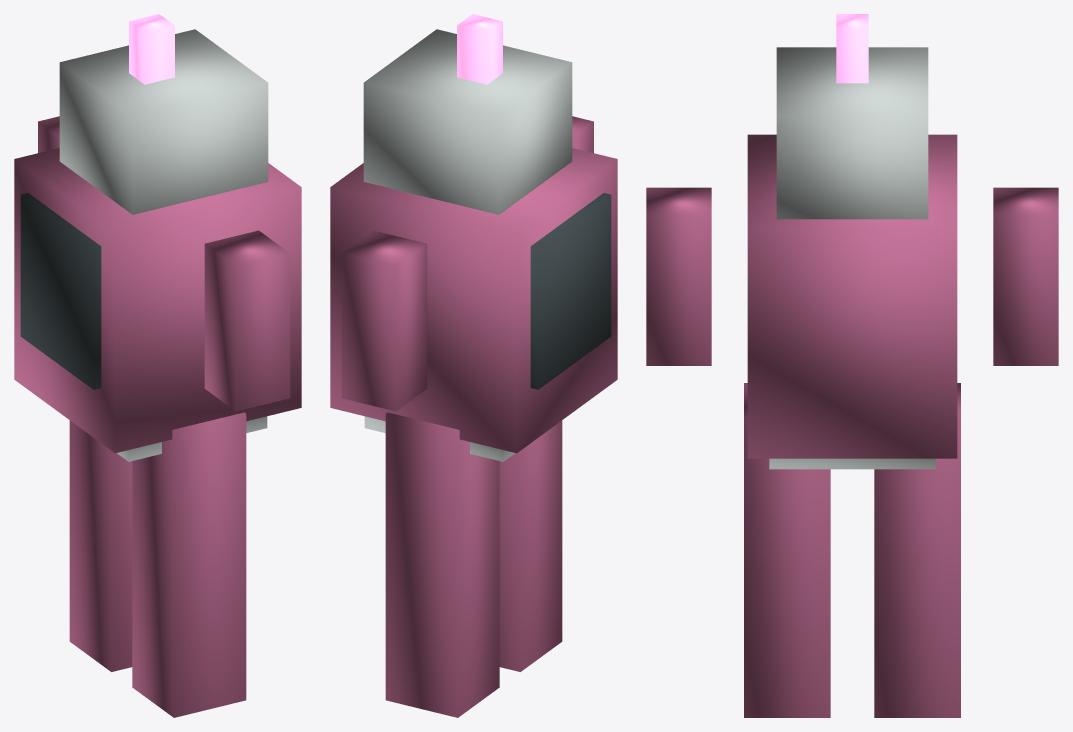
Rendered from enemy-elite-lod2.glb.
3 views of the same model, side by side, from view 1: azimuth 30°, elevation 25°; view 2: azimuth 150°, elevation 25°; view 3: azimuth 270°, elevation 25° (orthographic). The views are drawn at different scales.
Parts seen in each view (by area): view 1: torso-shell-mobile, leg-left, helmet, arm-left, leg-right, backpack, elite-crest, hip-shell-mobile, arm-right; view 2: torso-shell-mobile, leg-right, helmet, arm-right, leg-left, backpack, elite-crest, hip-shell-mobile, arm-left; view 3: torso-shell-mobile, helmet, leg-left, leg-right, arm-left, arm-right, elite-crest, hip-shell-mobile.
Part boxes in pixels (<box>): torso-shell-mobile: <box>14,148,301,453</box>; leg-left: <box>132,412,246,717</box>; helmet: <box>59,29,268,214</box>; arm-left: <box>204,230,290,411</box>; leg-right: <box>69,420,132,671</box>; backpack: <box>20,193,101,389</box>; elite-crest: <box>129,14,174,84</box>; hip-shell-mobile: <box>117,416,267,461</box>; arm-right: <box>38,116,59,152</box>; torso-shell-mobile: <box>330,148,617,453</box>; leg-right: <box>385,412,499,717</box>; helmet: <box>363,29,572,214</box>; arm-right: <box>341,230,427,411</box>; leg-left: <box>499,420,562,671</box>; backpack: <box>530,193,611,389</box>; elite-crest: <box>457,14,502,84</box>; hip-shell-mobile: <box>364,416,514,461</box>; arm-left: <box>572,116,593,152</box>; torso-shell-mobile: <box>747,134,957,458</box>; helmet: <box>776,47,928,219</box>; leg-left: <box>744,383,830,717</box>; leg-right: <box>874,383,960,717</box>; arm-left: <box>646,187,711,365</box>; arm-right: <box>993,187,1058,365</box>; elite-crest: <box>836,14,868,83</box>; hip-shell-mobile: <box>769,458,935,469</box>.
Size of the model in its own units: 0.645 by 2.06 by 1.14.
